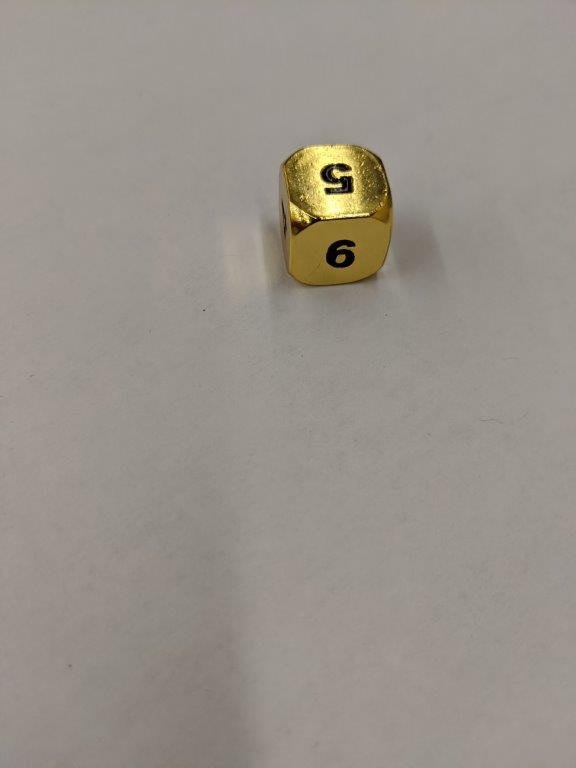d6-5: (277, 140, 393, 289)
